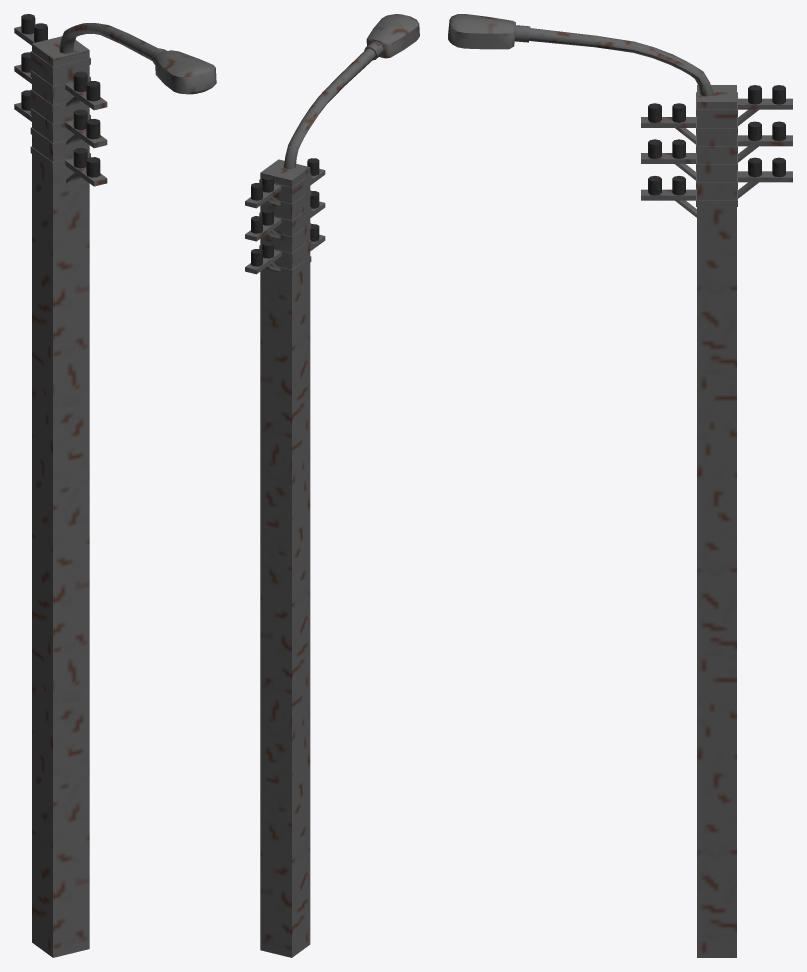
The model's file is BigLamp.fbx.
3 renders of one model, left to right at view 1: azimuth 30°, elevation 25°; view 2: azimuth 150°, elevation 25°; view 3: azimuth 270°, elevation 25°, orthographic. The views are drawn at different scales.
Parts seen in each view (by area): view 1: Куб.1876; view 2: Куб.1876; view 3: Куб.1876.
Boxes of the visible parts, x1,y1,x2,y2 form: Куб.1876: (14,14,216,957); Куб.1876: (245,14,419,957); Куб.1876: (448,14,792,957).
Size of the model in its own units: 54.14 by 1234 by 414.
